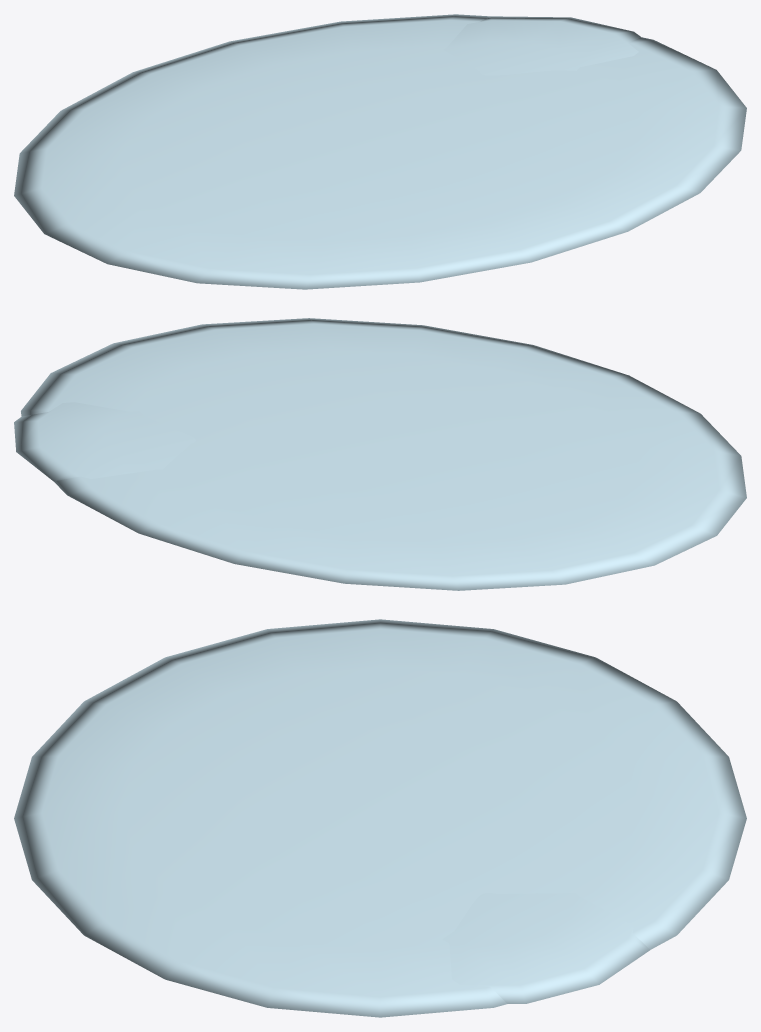
The model's file is IcePuddle.fbx.
The picture shows the model from 3 angles, top to bottom: view 1: azimuth 30°, elevation 25°; view 2: azimuth 150°, elevation 25°; view 3: azimuth 270°, elevation 25°; orthographic projection. The views are drawn at different scales.
Visible parts, largest first — view 1: IcePuddle; view 2: IcePuddle; view 3: IcePuddle.
Part boxes in pixels (x1,y1,x2,y2): IcePuddle: (14, 14, 746, 289); IcePuddle: (14, 318, 746, 590); IcePuddle: (14, 619, 746, 1017).
Bounding box in the file's own units: 180 × 6 × 140.
